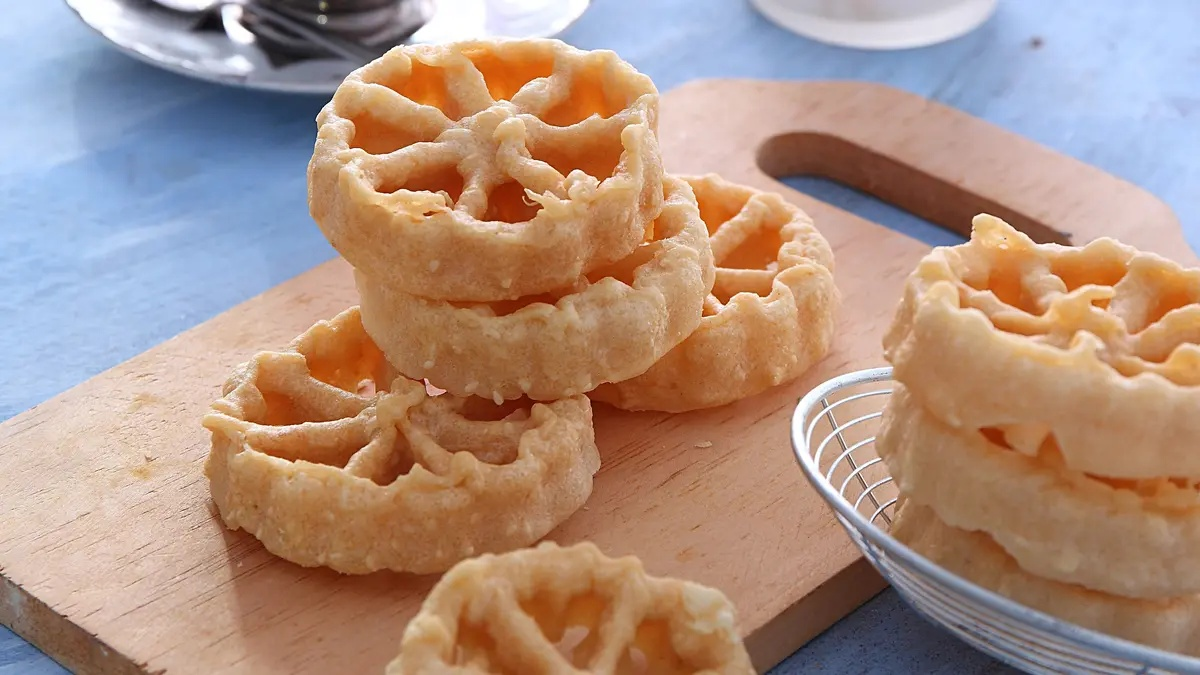kembang_goyang: (304, 28, 651, 306)
